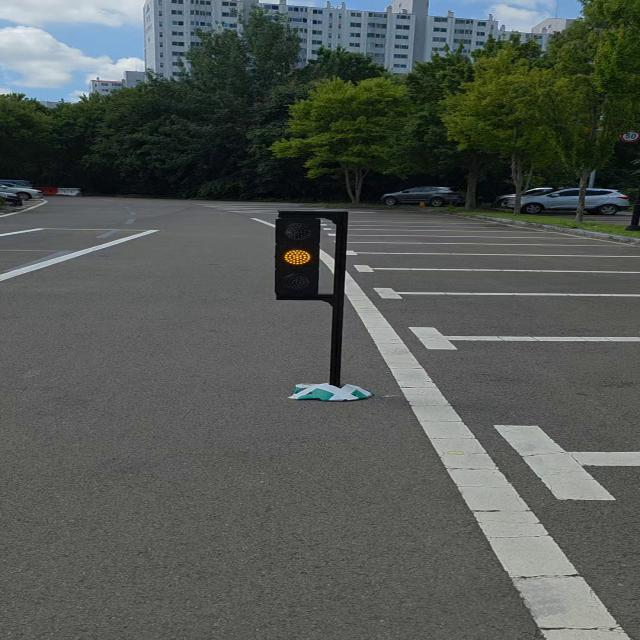yellow: (273, 210, 323, 304)
